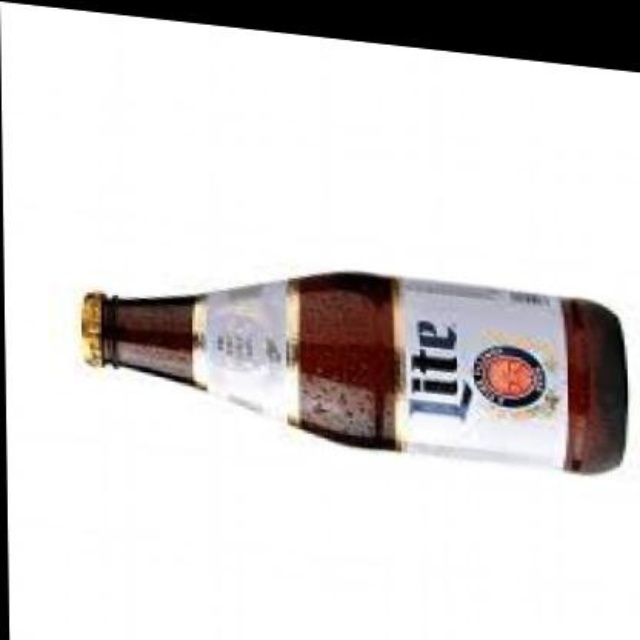trash: (82, 272, 626, 471)
